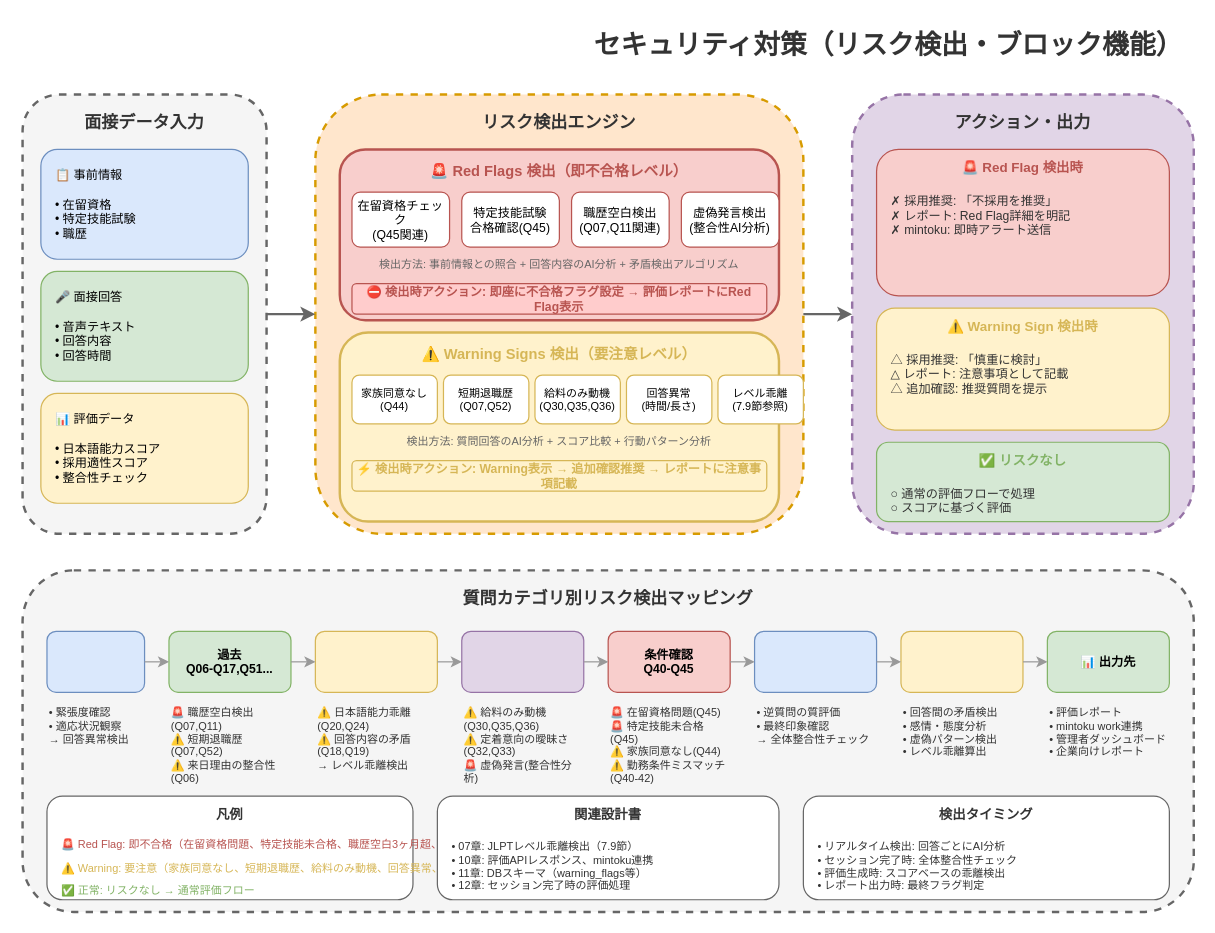
Image size: 1215x933. Some labels were removed from this diagram. Each missing label, with the box of its shape:
クロージング Q46-Q50: (753, 630, 877, 692)
導入 Q01-Q05: (46, 630, 145, 692)
未来 Q30-Q39,Q53...: (461, 630, 584, 692)
現在 Q18-Q29,Q54...: (314, 630, 437, 692)
🤖 AI統合分析: (900, 630, 1023, 692)
